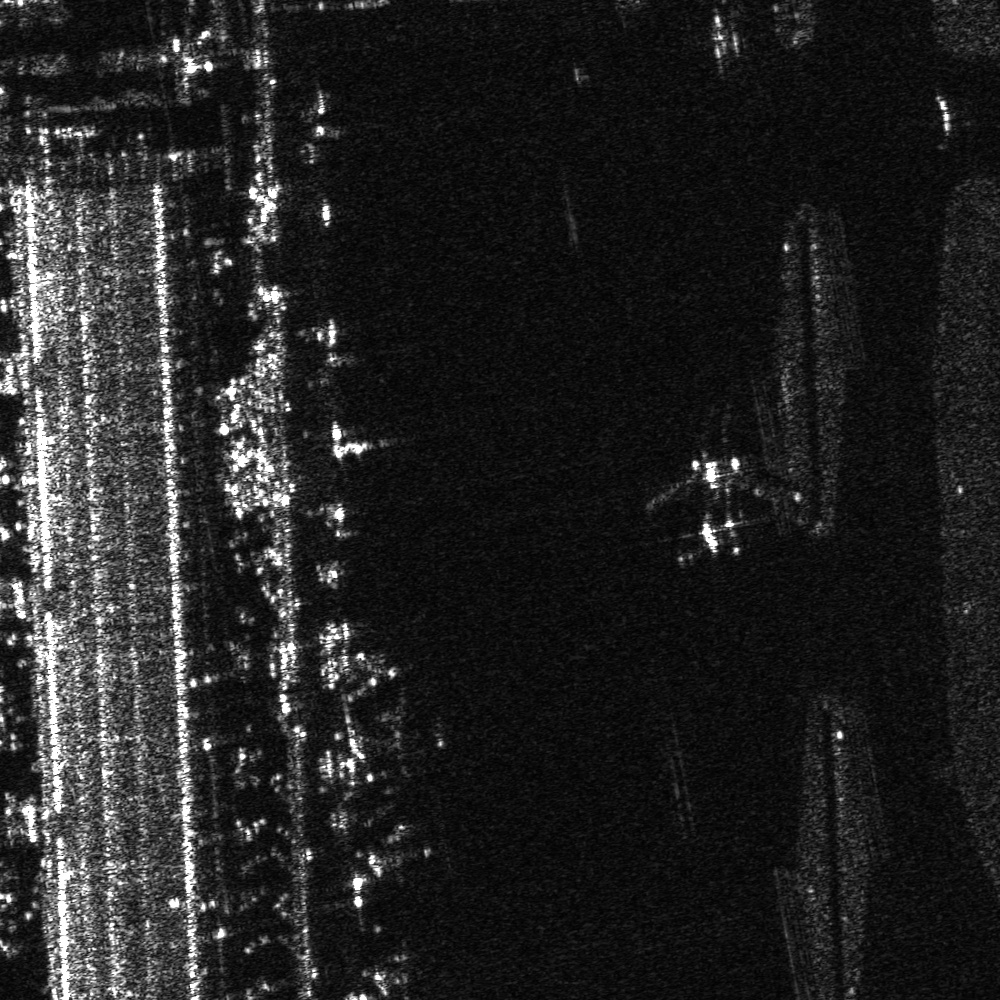A220: (339, 685, 453, 797)
other: (643, 450, 784, 577), (350, 812, 456, 894), (362, 934, 440, 999)
